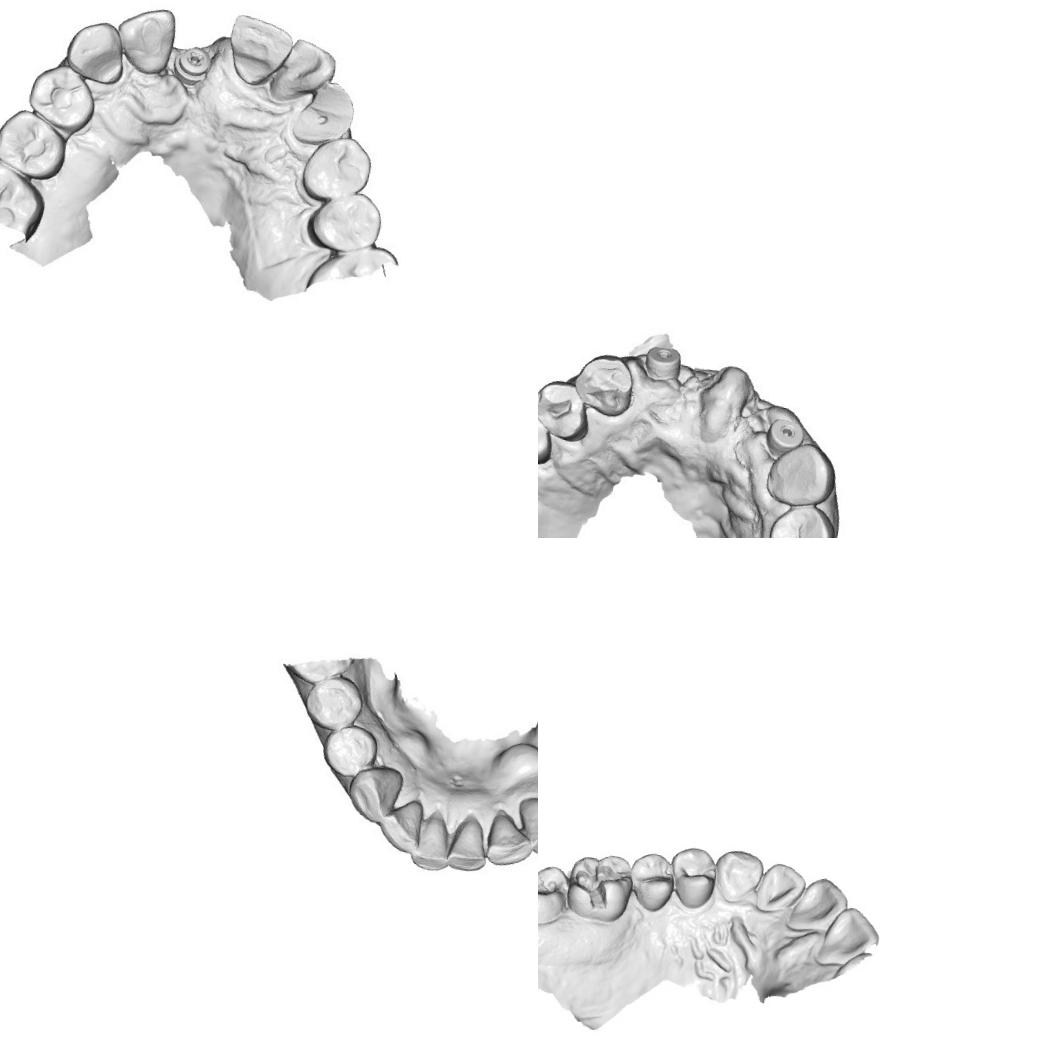canine: (760, 435, 840, 514), (567, 346, 642, 421), (59, 15, 130, 87), (290, 77, 359, 150), (344, 761, 408, 826), (709, 846, 766, 907), (510, 792, 538, 859)
implant: (639, 338, 688, 390), (764, 410, 804, 456)
implant_plus: (172, 41, 216, 90)
incisor: (219, 12, 294, 90), (812, 902, 883, 974), (115, 1, 179, 78), (785, 872, 852, 938), (276, 33, 340, 102), (442, 814, 496, 878), (753, 860, 809, 920), (375, 801, 427, 858), (408, 808, 452, 874), (482, 814, 532, 872)
inlay: (564, 856, 632, 918)
molar: (21, 59, 99, 133), (0, 106, 73, 182), (538, 858, 573, 929)
premolar: (303, 184, 386, 258), (299, 130, 376, 208), (300, 670, 368, 736), (317, 720, 382, 782), (664, 843, 722, 912), (625, 848, 680, 914), (538, 377, 589, 442), (764, 499, 838, 538), (538, 405, 556, 465)
